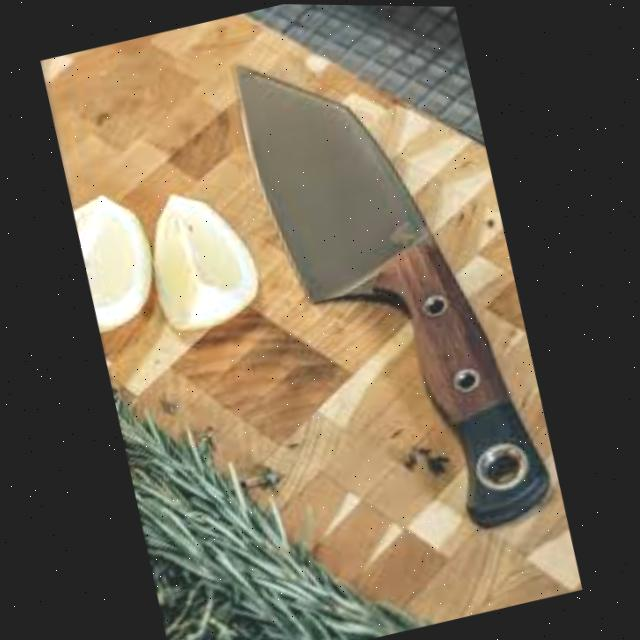Knife: (216, 8, 571, 562)
